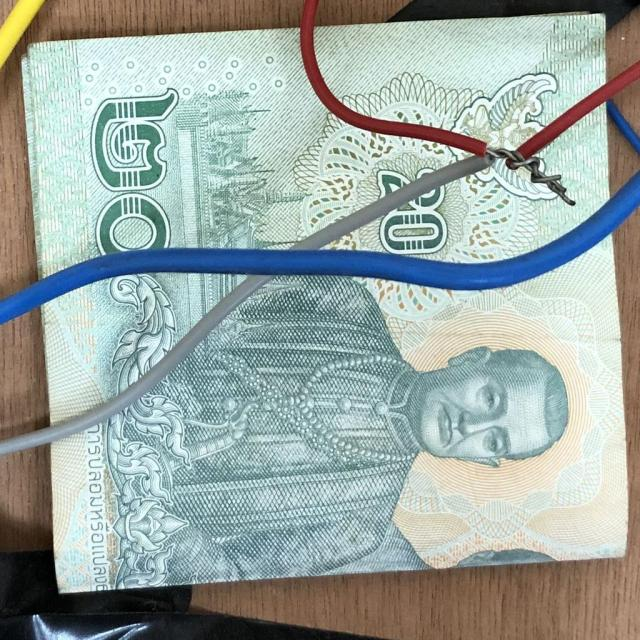THAI20: (52, 239, 628, 591), (22, 29, 466, 276), (334, 108, 609, 262), (316, 14, 605, 149), (42, 274, 251, 423)
